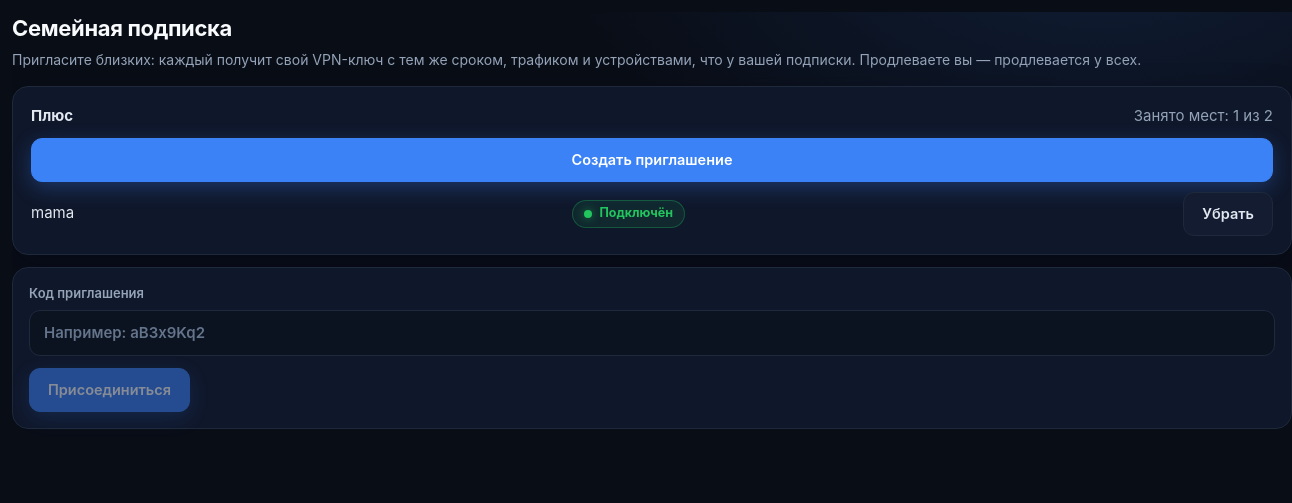
Test: owner creates an invitation and a member is listed with the sync state
expect the text "Занято мест: 1 из 2" is shown: met, box top-left (1134, 105), bottom-right (1273, 128)
expect the text "Подключён" is shown: met, box top-left (572, 200), bottom-right (685, 228)
Click the button "Создать приглашение": x=652, y=160 top-left (31, 138), bottom-right (1273, 182)
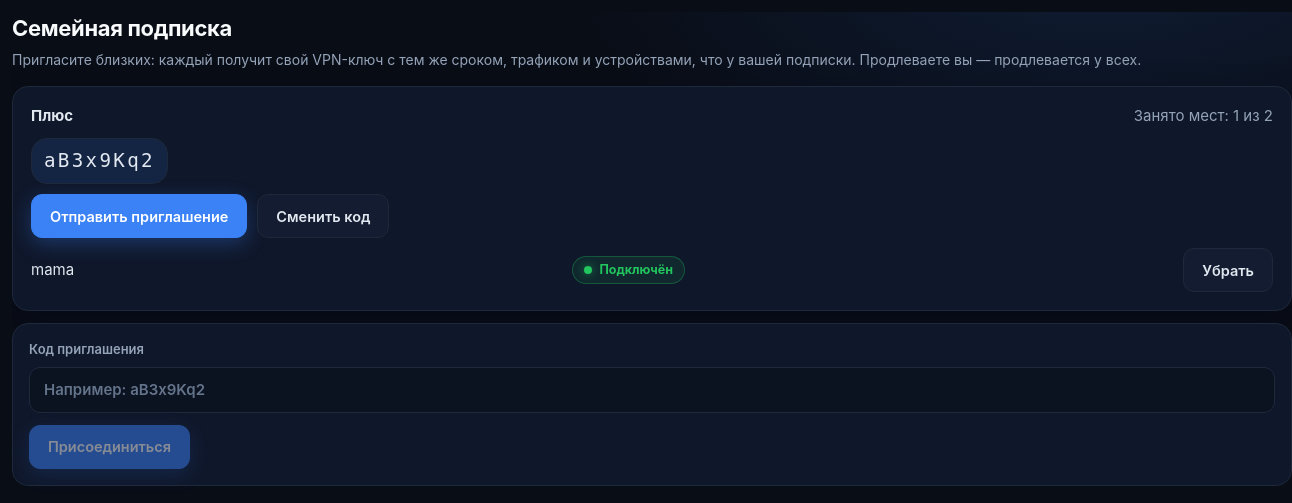
expect the text "aB3x9Kq2" is shown: met, box top-left (31, 138), bottom-right (168, 184)
